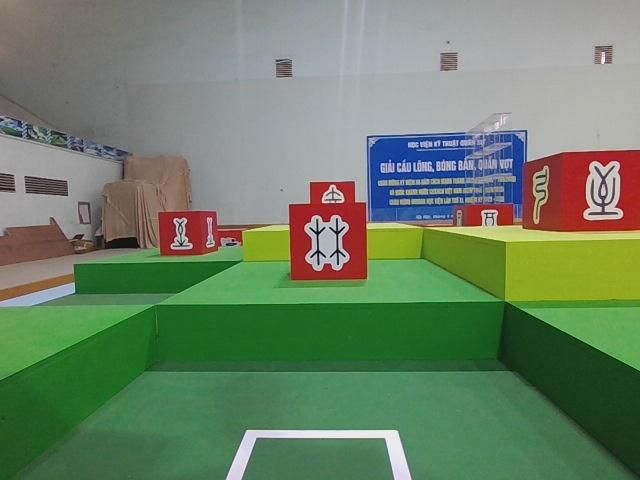R2 Fake: (517, 147, 640, 234)
R2 Real: (284, 202, 369, 286), (154, 210, 217, 257)
